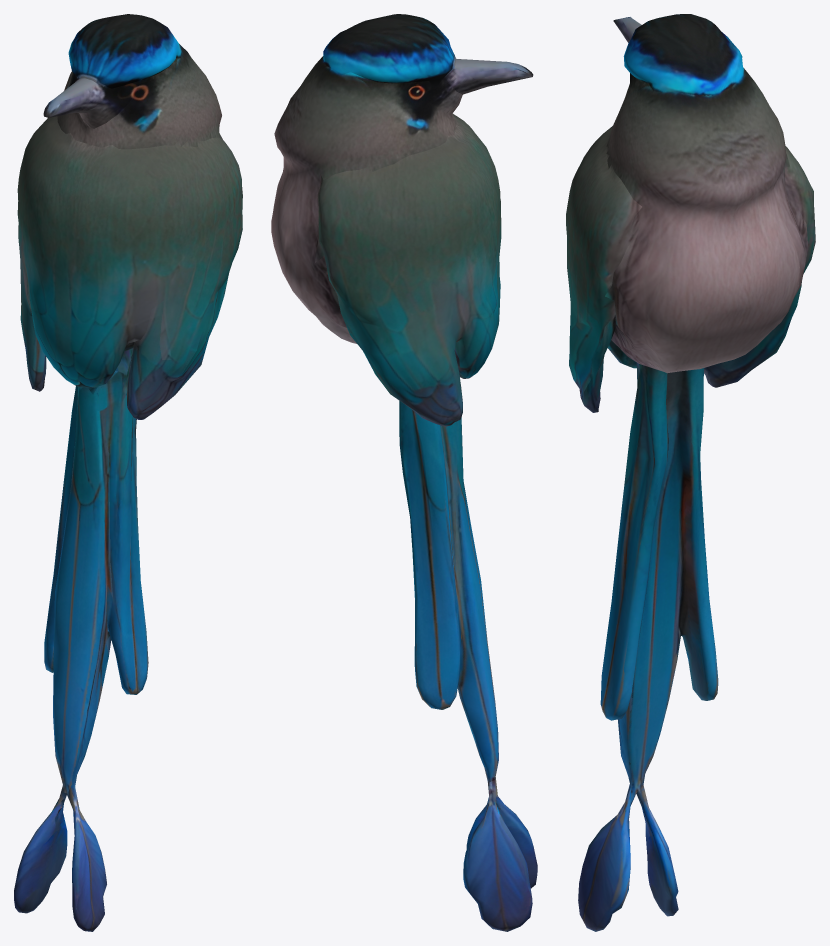
Rendered from momoto.fbx.
The picture shows the model from 3 angles, left to right: view 1: azimuth 30°, elevation 25°; view 2: azimuth 150°, elevation 25°; view 3: azimuth 270°, elevation 25°; orthographic projection. The views are drawn at different scales.
Parts seen in each view (by area): view 1: tripo_part_4_Clone, tripo_part_3_Clone, tripo_part_6_Clone, tripo_part_8_Clone, tripo_part_7_Clone, tripo_part_5_Clone, tripo_part_1_Clone, tripo_part_0_Clone, tripo_part_2_Clone; view 2: tripo_part_4_Clone, tripo_part_8_Clone, tripo_part_3_Clone, tripo_part_7_Clone, tripo_part_1_Clone, tripo_part_2_Clone, tripo_part_0_Clone; view 3: tripo_part_8_Clone, tripo_part_3_Clone, tripo_part_4_Clone, tripo_part_6_Clone, tripo_part_7_Clone, tripo_part_0_Clone, tripo_part_1_Clone, tripo_part_5_Clone.
Boxes of the visible parts, left/top/right/bottom form: tripo_part_4_Clone: left=17, top=116, right=242, bottom=405; tripo_part_3_Clone: left=44, top=384, right=112, bottom=805; tripo_part_6_Clone: left=105, top=348, right=148, bottom=694; tripo_part_8_Clone: left=57, top=44, right=222, bottom=350; tripo_part_7_Clone: left=68, top=14, right=181, bottom=88; tripo_part_5_Clone: left=127, top=300, right=202, bottom=419; tripo_part_1_Clone: left=14, top=796, right=67, bottom=913; tripo_part_0_Clone: left=67, top=787, right=106, bottom=931; tripo_part_2_Clone: left=43, top=78, right=137, bottom=128; tripo_part_4_Clone: left=315, top=114, right=501, bottom=426; tripo_part_8_Clone: left=271, top=56, right=462, bottom=343; tripo_part_3_Clone: left=399, top=401, right=498, bottom=782; tripo_part_7_Clone: left=323, top=14, right=456, bottom=89; tripo_part_1_Clone: left=463, top=780, right=532, bottom=931; tripo_part_2_Clone: left=443, top=59, right=533, bottom=94; tripo_part_0_Clone: left=466, top=777, right=537, bottom=888; tripo_part_8_Clone: left=605, top=67, right=808, bottom=373; tripo_part_3_Clone: left=617, top=368, right=718, bottom=802; tripo_part_4_Clone: left=566, top=126, right=815, bottom=403; tripo_part_6_Clone: left=600, top=362, right=668, bottom=720; tripo_part_7_Clone: left=623, top=14, right=743, bottom=94; tripo_part_0_Clone: left=578, top=788, right=634, bottom=931; tripo_part_1_Clone: left=636, top=785, right=678, bottom=916; tripo_part_5_Clone: left=569, top=314, right=616, bottom=412.
Bounding box in the file's own units: 26.16 × 94.81 × 22.73.
1 material, 1 textured.
